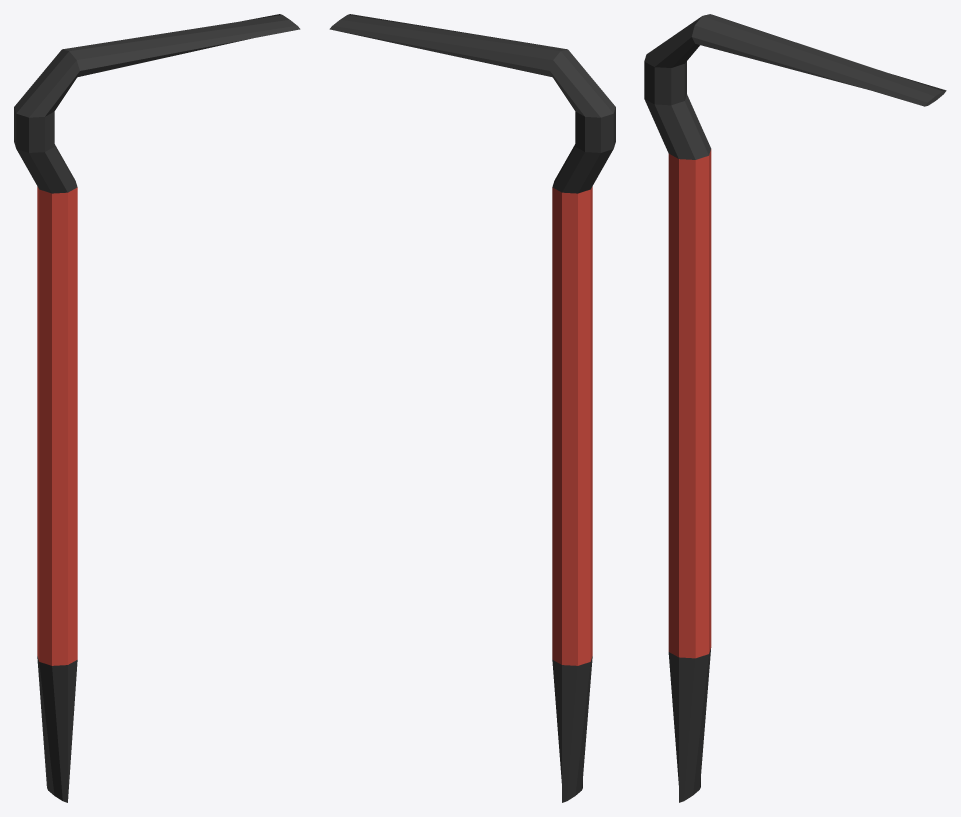
Rendered from lom.glb.
The picture shows the model from 3 angles, left to right: view 1: azimuth 30°, elevation 25°; view 2: azimuth 150°, elevation 25°; view 3: azimuth 330°, elevation 25°; orthographic projection. The views are drawn at different scales.
Parts seen in each view (by area): view 1: Cylinder; view 2: Cylinder; view 3: Cylinder.
Part boxes in pixels (left/top/right/bottom): Cylinder: left=14, top=14, right=300, bottom=802; Cylinder: left=329, top=14, right=615, bottom=802; Cylinder: left=644, top=14, right=946, bottom=802.
Bounding box in the file's own units: 15.14 × 39.07 × 2.
